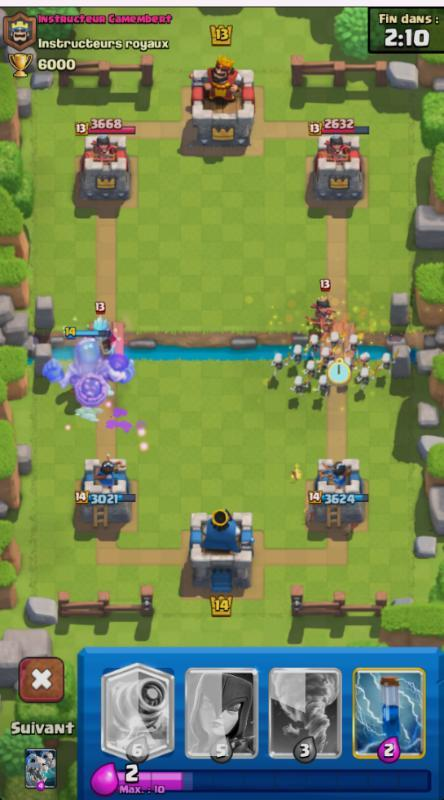enemy_ice_wizard: (81, 303, 121, 338)
enemy_princess: (301, 279, 340, 330)
player_giant_skeleton: (39, 330, 138, 411)
player_skeletons: (288, 369, 314, 396), (350, 355, 374, 384), (265, 351, 289, 379), (322, 330, 347, 356), (373, 350, 397, 377), (300, 353, 324, 379), (340, 334, 363, 361), (314, 369, 335, 397), (285, 342, 308, 364)
